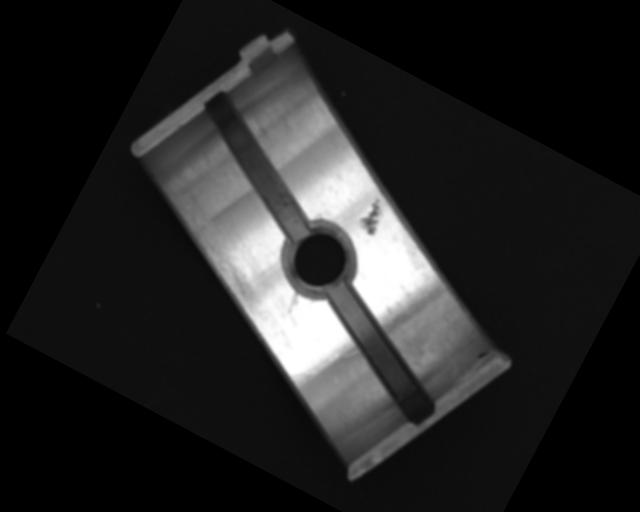blot: (475, 345, 494, 363)
bruise: (357, 196, 391, 237)
gap: (169, 90, 347, 246), (294, 279, 464, 426)
hole: (270, 211, 368, 307)
nick: (288, 336, 342, 395), (284, 290, 302, 315)
scratch: (137, 186, 289, 317)
